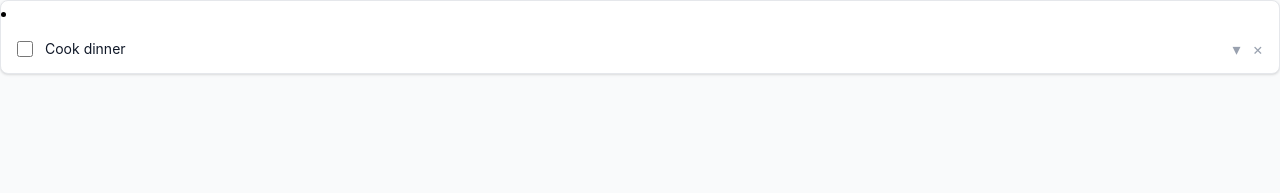
Scenario: TodoItem › collapses the detail panel on second click
Click the button "Cook dinner".
click(85, 48)  # box [45,39,1220,59]
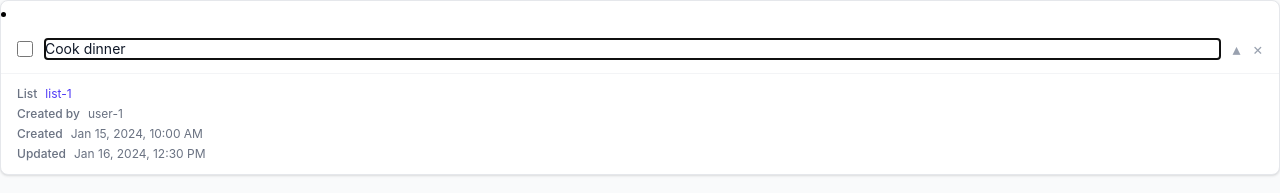
Click the button "Cook dinner".
click(85, 48)  # box [45,39,1220,59]
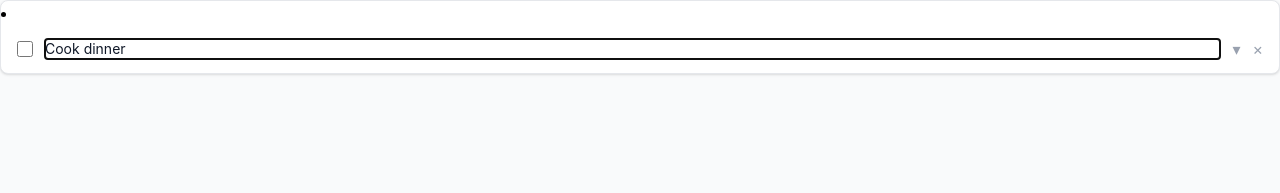
Now the text "Created" is gone
